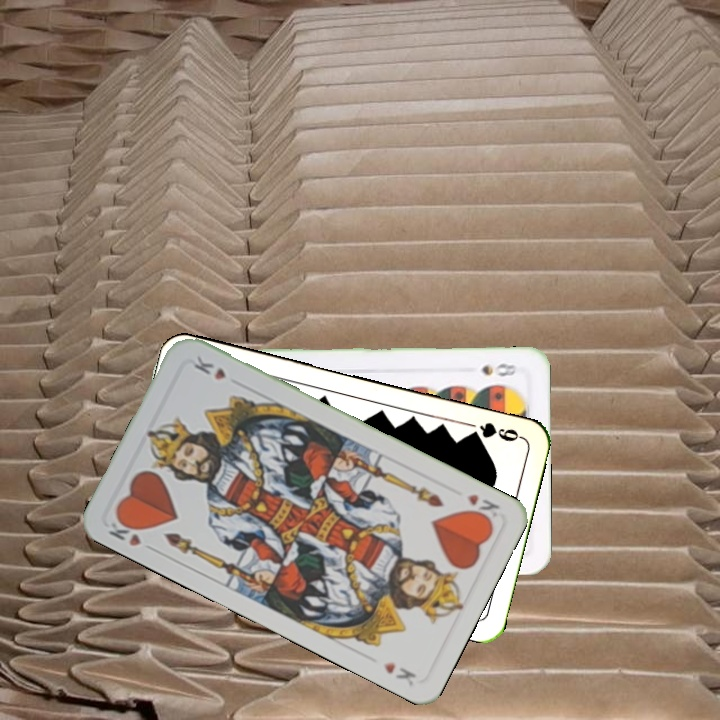G9: (464, 418, 525, 445)
HK: (104, 512, 159, 555), (463, 489, 503, 525)
S8: (477, 359, 524, 380)
